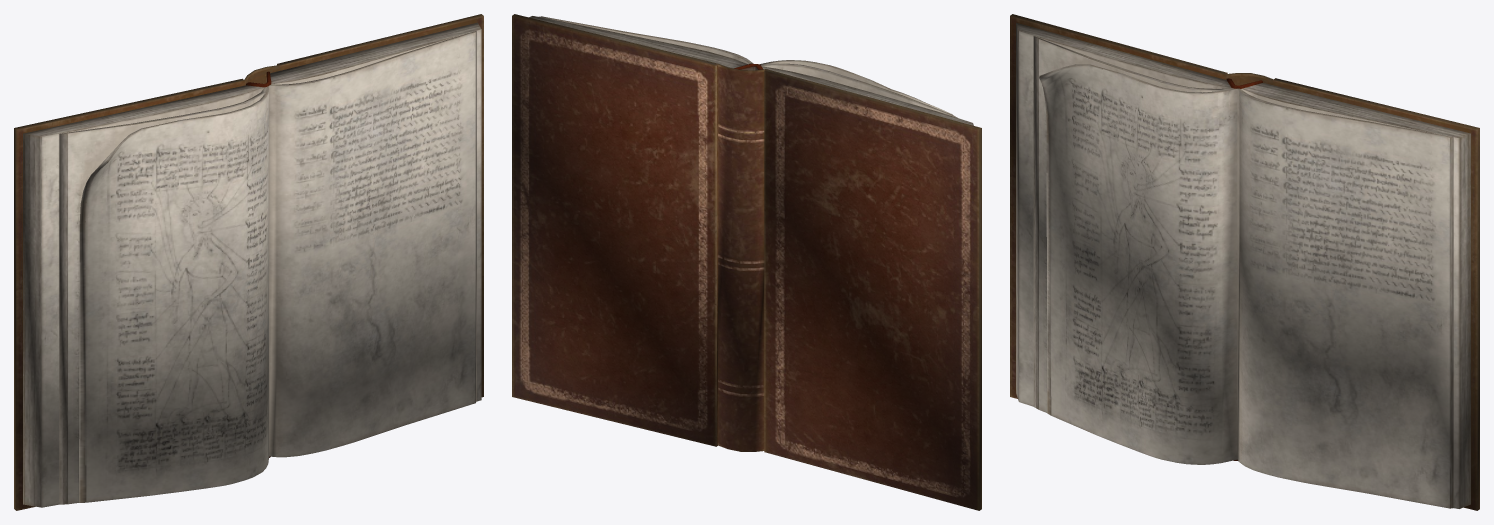
Rendered from medieval_open_book.glb.
The picture shows the model from 3 angles, left to right: view 1: azimuth 30°, elevation 25°; view 2: azimuth 150°, elevation 25°; view 3: azimuth 330°, elevation 25°; orthographic projection.
Visible parts, largest first — view 1: Book_02_low; view 2: Book_02_low; view 3: Book_02_low.
Part boxes in pixels (bbox=[...]): Book_02_low: bbox=[14, 14, 483, 510]; Book_02_low: bbox=[512, 14, 981, 510]; Book_02_low: bbox=[1010, 14, 1479, 510].
Size of the model in its own units: 2 by 1.56 by 0.2525.
Materials: 1 (1 with a texture image).
